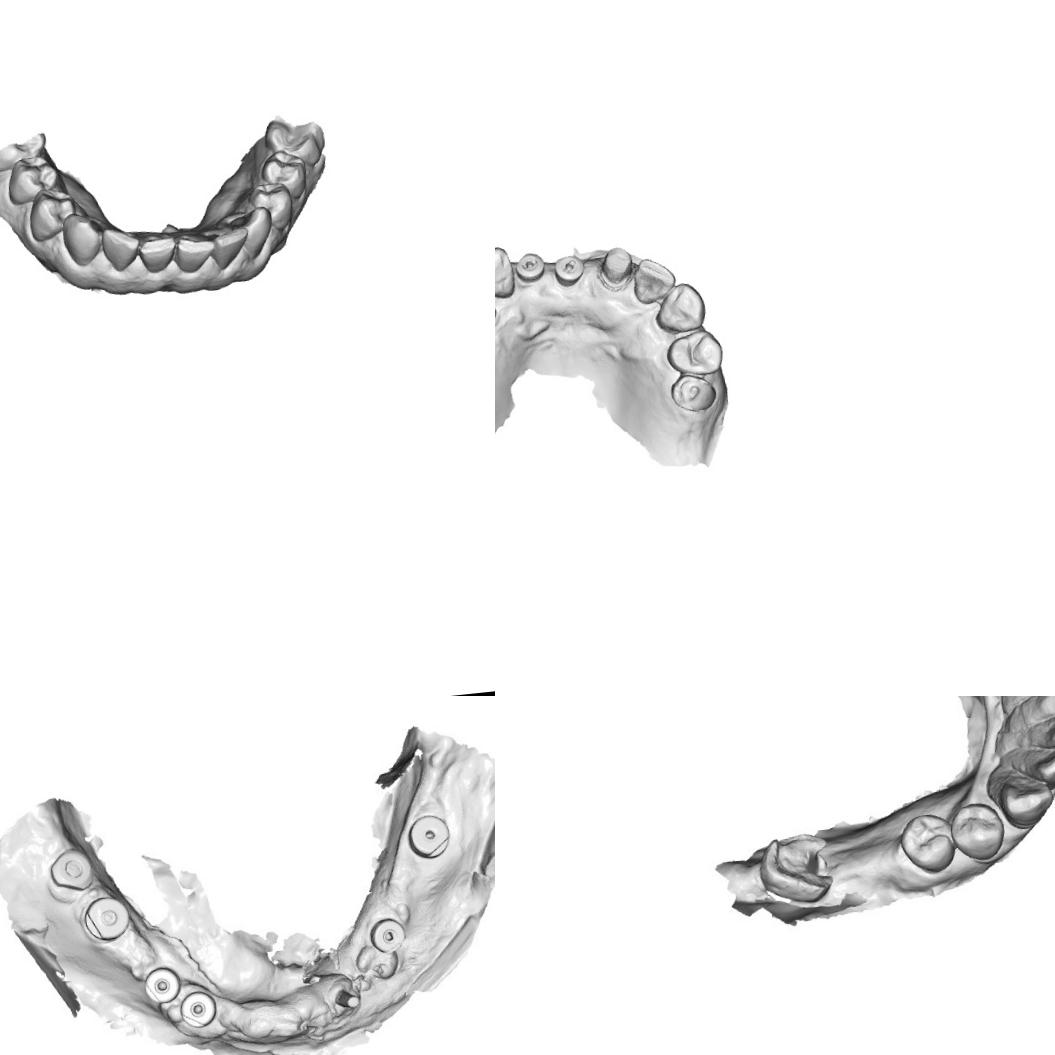abutment: (333, 985, 364, 1014)
canine: (991, 767, 1055, 830), (57, 202, 107, 270), (652, 280, 708, 336), (225, 204, 276, 262), (495, 244, 517, 302)
crown: (594, 243, 637, 293)
implant: (80, 892, 132, 945), (404, 812, 454, 862), (48, 842, 97, 893), (368, 914, 412, 951), (142, 965, 181, 1004), (180, 991, 218, 1026)
implant_minus: (552, 253, 586, 288), (514, 250, 546, 284)
incisor: (96, 220, 146, 282), (630, 255, 678, 306), (170, 224, 216, 277), (1007, 737, 1055, 784), (208, 223, 252, 274), (136, 226, 178, 276), (1022, 715, 1055, 749), (1012, 696, 1055, 722)
premolar: (898, 810, 961, 876), (948, 800, 1008, 862), (22, 182, 80, 246), (2, 150, 62, 210), (257, 146, 314, 206), (664, 328, 725, 378), (250, 178, 300, 236), (668, 372, 718, 414)
